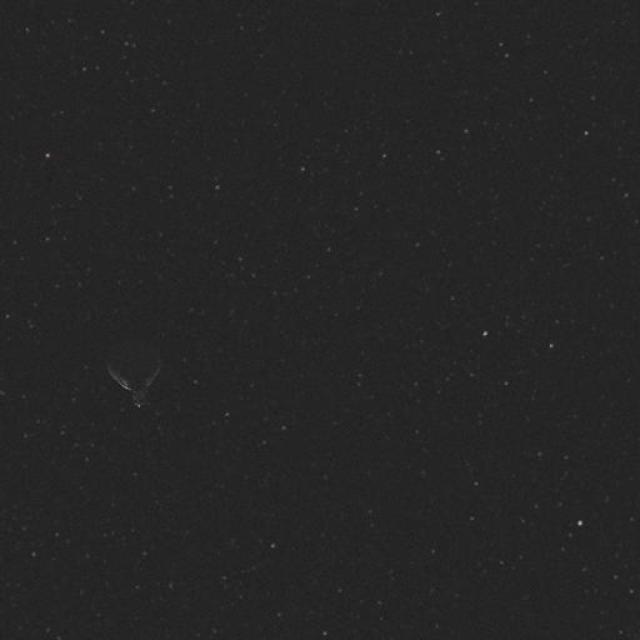debris: (96, 333, 188, 412)
